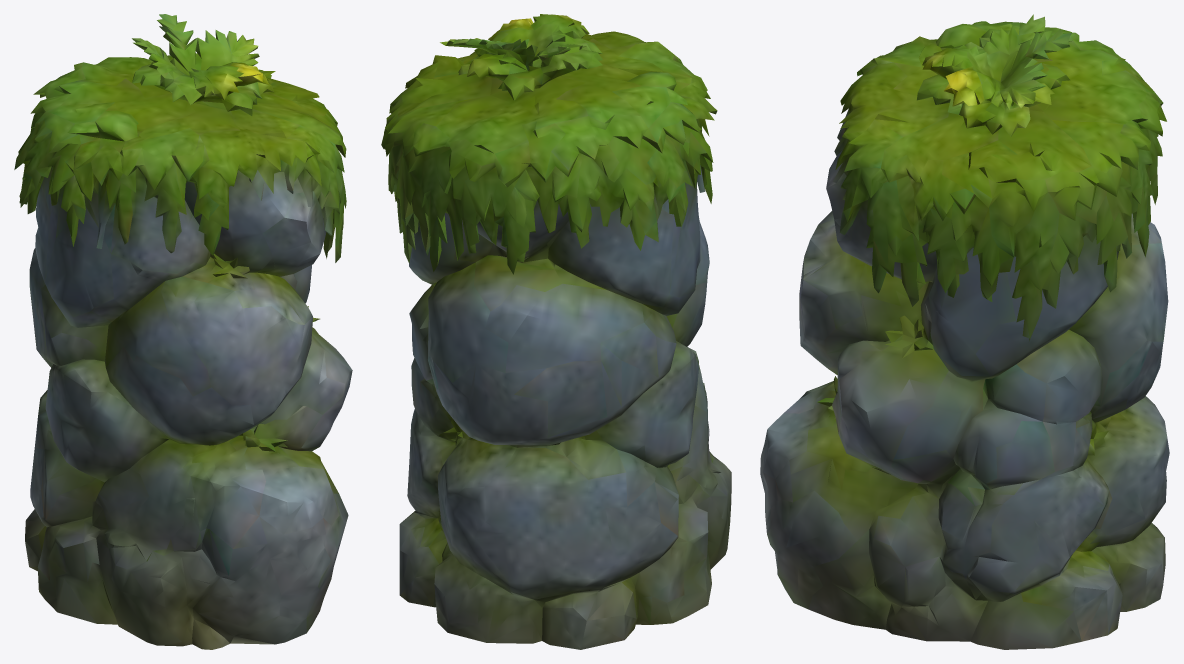
File: pilar_cascada_ancho_6000.glb
3 renders of one model, left to right at view 1: azimuth 30°, elevation 25°; view 2: azimuth 150°, elevation 25°; view 3: azimuth 270°, elevation 25°, orthographic. The views are drawn at different scales.
Visible parts, largest first — view 1: pilar_cascada_ancho_malla; view 2: pilar_cascada_ancho_malla; view 3: pilar_cascada_ancho_malla.
Boxes of the visible parts, x1,y1,x2,y2 form: pilar_cascada_ancho_malla: [14, 14, 352, 649]; pilar_cascada_ancho_malla: [381, 14, 731, 649]; pilar_cascada_ancho_malla: [760, 14, 1169, 649].
Size of the model in its own units: 0.1936 by 0.3403 by 0.2248.
1 material, 1 textured.
